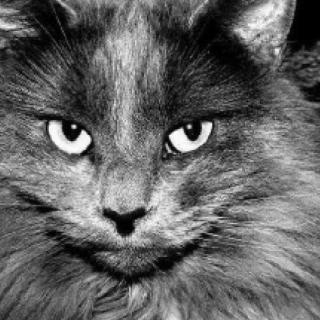cat: (0, 0, 308, 286)
nose: (87, 161, 170, 238)
